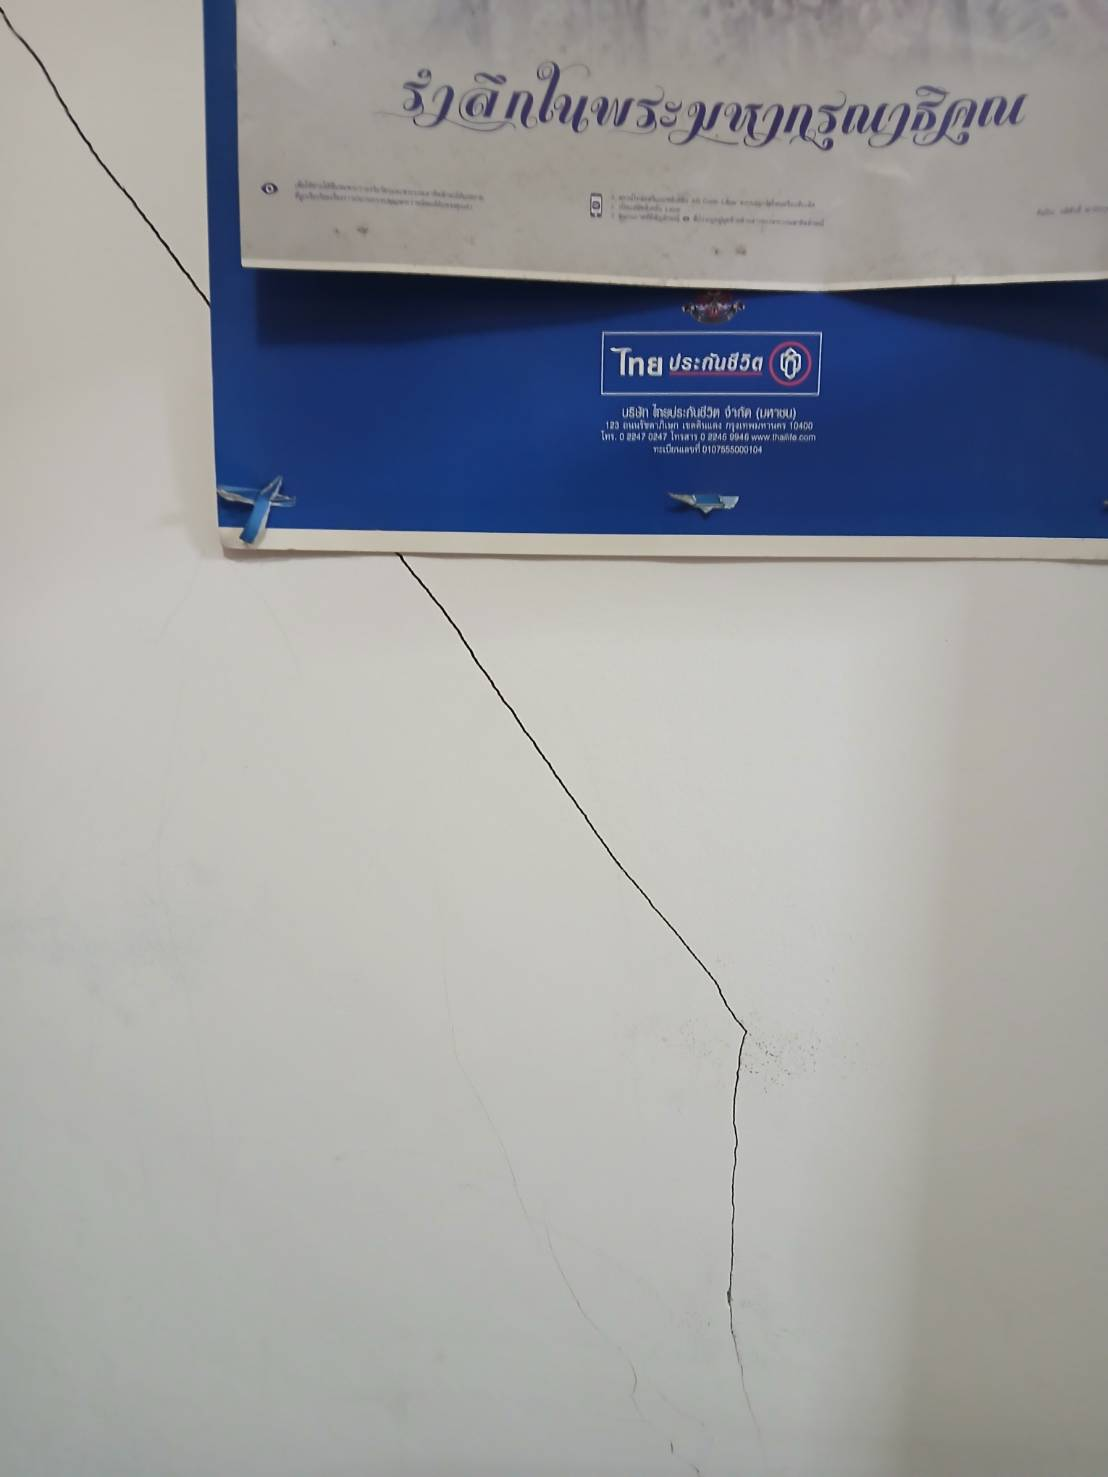Low: (388, 554, 807, 1477)
